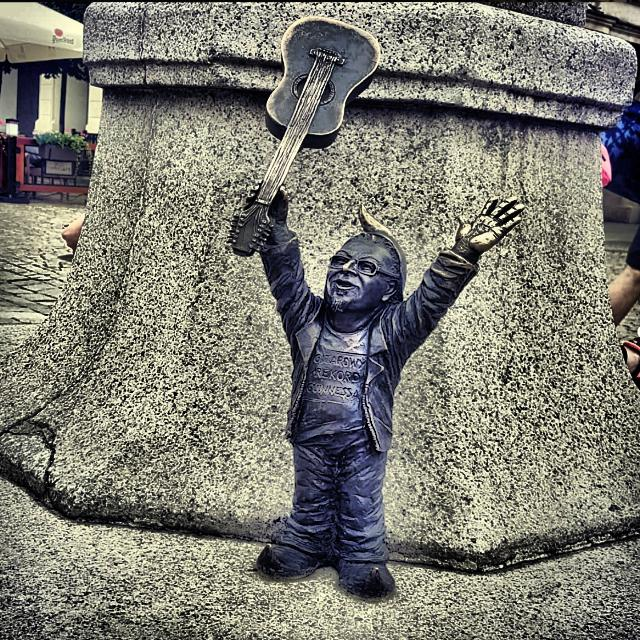Leszko_z_Wroclawia: (228, 19, 523, 601)
